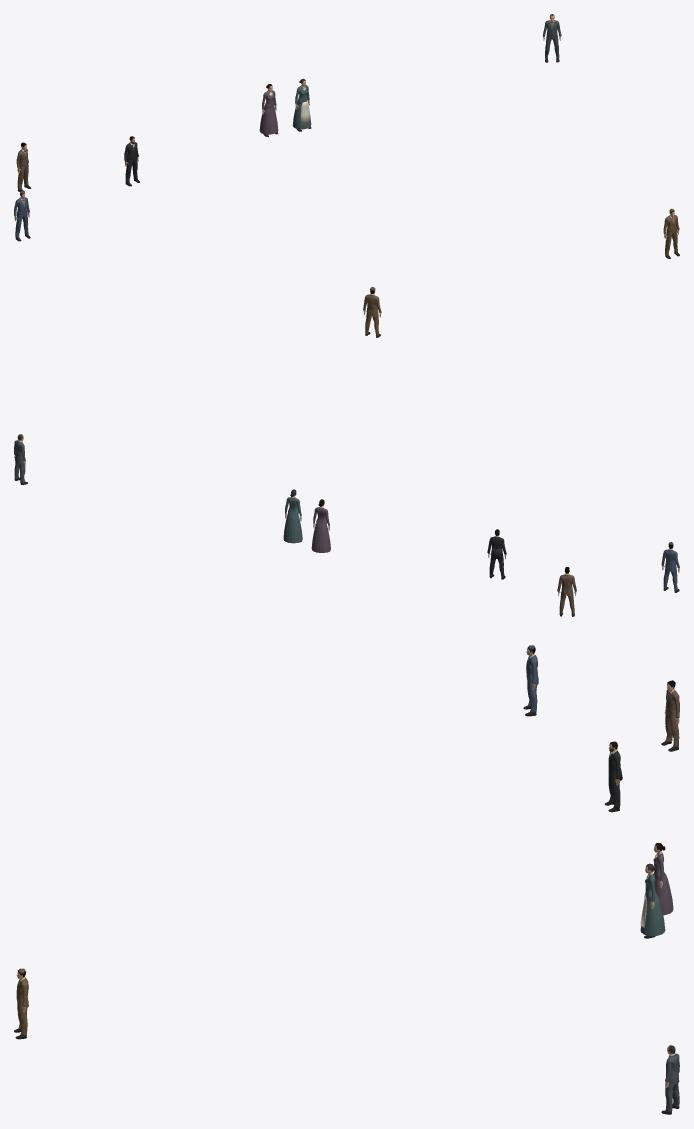
File: street-characters.glb
3 renders of one model, top to bottom at view 1: azimuth 30°, elevation 25°; view 2: azimuth 150°, elevation 25°; view 3: azimuth 270°, elevation 25°, orthographic. The views are drawn at different scales.
Visible parts, largest first — view 1: seamstress_root_Coat; view 2: no part large enough to name; view 3: no part large enough to name.
Boxes of the visible parts, x1,y1,x2,y2 form: seamstress_root_Coat: (259,109,278,134).
Bounding box in the file's own units: 23.61 × 1.89 × 16.2.
Materials: 66 (31 with a texture image).
